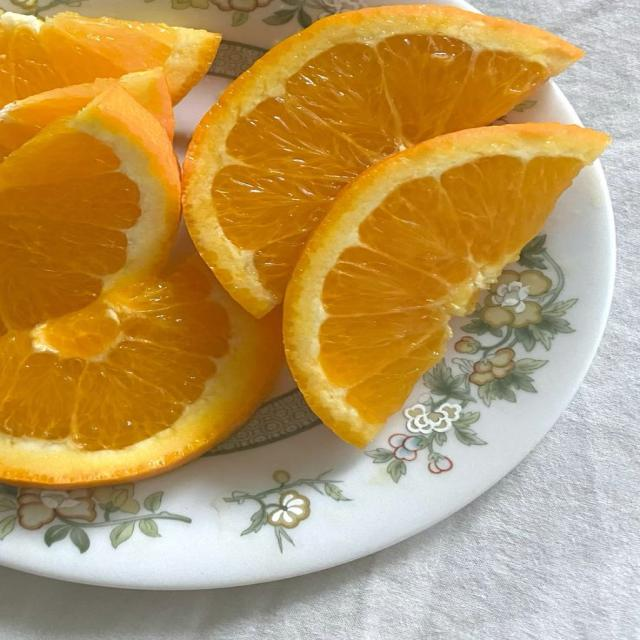orange: (184, 6, 582, 316), (0, 83, 281, 487), (284, 124, 609, 446), (0, 258, 281, 487), (0, 85, 179, 335), (0, 12, 219, 105), (0, 68, 174, 159)
